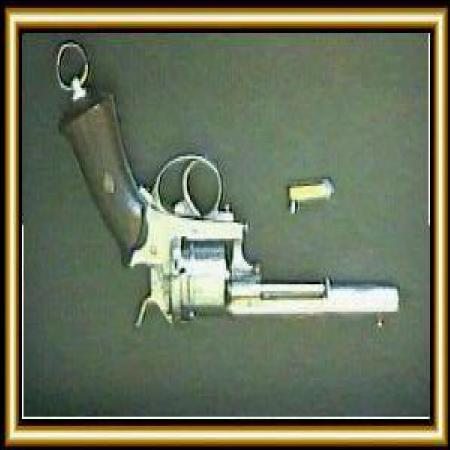Pistol: (54, 87, 402, 334)
